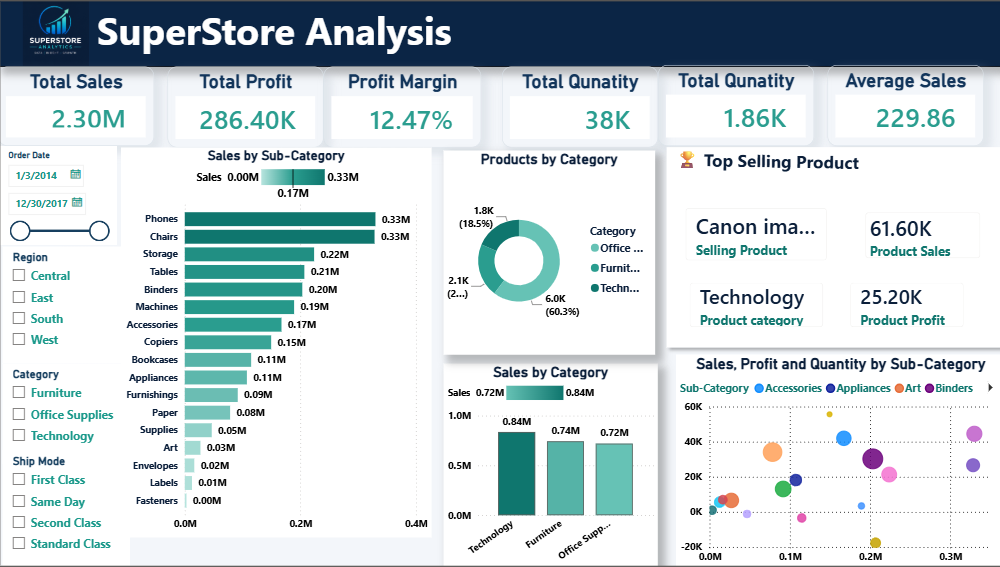

Layout of this report page (visuals, bound fields, positions):
{"tool":"powerbi","page":{"name":"Product Performance","canvas":[1280,720],"ordinal":1},"visuals":[{"type":"textbox","box":[0,0,1269,85],"z":0},{"type":"image","box":[24.2,0,97,84.8],"z":1000},{"type":"cardVisual","title":"Total Sales","fields":{"Data":["Sum(Sample - Superstore.Sales)"]},"box":[0,85,196.5,100.2],"z":2000},{"type":"cardVisual","title":"Total Profit","fields":{"Data":["Sum(Sample - Superstore.Profit)"]},"box":[213.5,85,196.5,102],"z":3000},{"type":"cardVisual","title":"Profit Margin","fields":{"Data":["Sample - Superstore.Profit Margin"]},"box":[410.1,85,198.4,102],"z":4000},{"type":"cardVisual","title":"Total  Qunatity ","fields":{"Data":["Sum(Sample - Superstore.Quantity)"]},"box":[635,85,196.5,102],"z":5000},{"type":"slicer","fields":{"Values":["Sample - Superstore.Order Date"]},"box":[0,185.2,149.3,124.7],"z":6000},{"type":"slicer","fields":{"Values":["Sample - Superstore.Region"]},"box":[5.7,311.8,149.3,147.4],"z":7000},{"type":"slicer","fields":{"Values":["Sample - Superstore.Category"]},"box":[5.7,459.2,149.3,126.6],"z":8000},{"type":"slicer","fields":{"Values":["Sample - Superstore.Ship Mode"]},"box":[5.7,568.8,160.6,151.2],"z":9000},{"type":"cardVisual","title":"Average Sales","fields":{"Data":["Avg(Sample - Superstore.Sales)"]},"box":[1045,83.2,196.5,102],"z":10000},{"type":"cardVisual","title":"Total  Qunatity ","fields":{"Data":["Count(Sample - Superstore.Product ID)"]},"box":[831.5,83.2,196.5,102],"z":11000},{"type":"clusteredBarChart","title":"Sales by Sub-Category","fields":{"Y":["Sum(Sample - Superstore.Sales)"],"Category":["Sample - Superstore.Sub-Category"]},"box":[155,187.1,391.2,491.3],"z":12000},{"type":"clusteredColumnChart","title":"Sales by Category","fields":{"Category":["Sample - Superstore.Category"],"Y":["Sum(Sample - Superstore.Sales)"]},"box":[561.3,459.2,270.2,260.8],"z":13000},{"type":"donutChart","title":"Products by Category","fields":{"Category":["Sample - Superstore.Category"],"Y":["CountNonNull(Sample - Superstore.Product Name)"]},"box":[561.3,190.9,266.5,257],"z":14000},{"type":"scatterChart","title":" Sales,  Profit and Quantity by Sub-Category","fields":{"X":["Sum(Sample - Superstore.Sales)"],"Y":["Sum(Sample - Superstore.Profit)"],"Size":["Sum(Sample - Superstore.Quantity)"],"Series":["Sample - Superstore.Sub-Category"]},"box":[854.2,447.9,415.8,272.1],"z":15000},{"type":"shape","box":[833.4,177.6,446,270.2],"z":16000},{"type":"cardVisual","fields":{"Data":["Sample - Superstore.Top Product Category"]},"box":[854.2,340.2,202.2,90.7],"z":17000},{"type":"cardVisual","fields":{"Data":["Sample - Superstore.Top Product Sales"]},"box":[1075.3,251.3,179.5,92.6],"z":18000},{"type":"cardVisual","fields":{"Data":["Sample - Superstore.Top Product Profit"]},"box":[1056.4,340.2,177.6,90.7],"z":19000},{"type":"cardVisual","fields":{"Data":["Sample - Superstore.Top Selling Product"]},"box":[854.2,251.3,202.2,90.7],"z":20000},{"type":"actionButton","box":[0,0,1271.9,717],"z":20001}]}

Visuals, with their boxes in screenshot pixels (x1, y1, x2, y2), scaled from the page's 1280x720 canvas onto the 1000x567 screenshot:
textbox: rect(0, 0, 991, 67)
image: rect(19, 0, 95, 67)
"Total Sales" cardVisual: rect(0, 67, 154, 146)
"Total Profit" cardVisual: rect(167, 67, 320, 147)
"Profit Margin" cardVisual: rect(320, 67, 475, 147)
"Total  Qunatity " cardVisual: rect(496, 67, 650, 147)
slicer - Sample - Superstore.Order Date: rect(0, 146, 117, 244)
slicer - Sample - Superstore.Region: rect(4, 246, 121, 362)
slicer - Sample - Superstore.Category: rect(4, 362, 121, 461)
slicer - Sample - Superstore.Ship Mode: rect(4, 448, 130, 566)
"Average Sales" cardVisual: rect(816, 66, 970, 146)
"Total  Qunatity " cardVisual: rect(650, 66, 803, 146)
"Sales by Sub-Category" clusteredBarChart: rect(121, 147, 427, 534)
"Sales by Category" clusteredColumnChart: rect(439, 362, 650, 566)
"Products by Category" donutChart: rect(439, 150, 647, 353)
" Sales,  Profit and Quantity by Sub-Category" scatterChart: rect(667, 353, 992, 566)
shape: rect(651, 140, 999, 353)
cardVisual - Sample - Superstore.Top Product Category: rect(667, 268, 825, 339)
cardVisual - Sample - Superstore.Top Product Sales: rect(840, 198, 980, 271)
cardVisual - Sample - Superstore.Top Product Profit: rect(825, 268, 964, 339)
cardVisual - Sample - Superstore.Top Selling Product: rect(667, 198, 825, 269)
actionButton: rect(0, 0, 994, 565)
